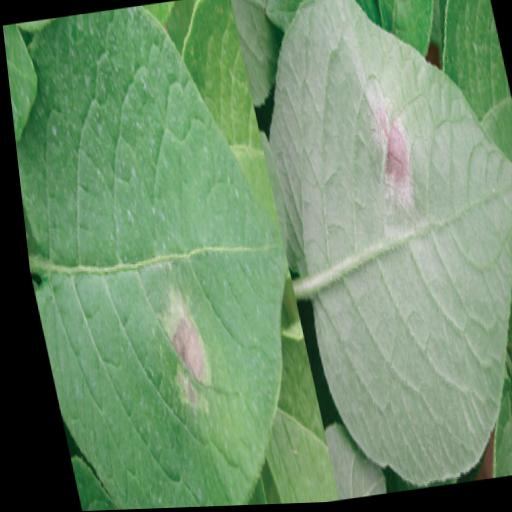Late Blight: (0, 0, 323, 512), (230, 0, 512, 495)
